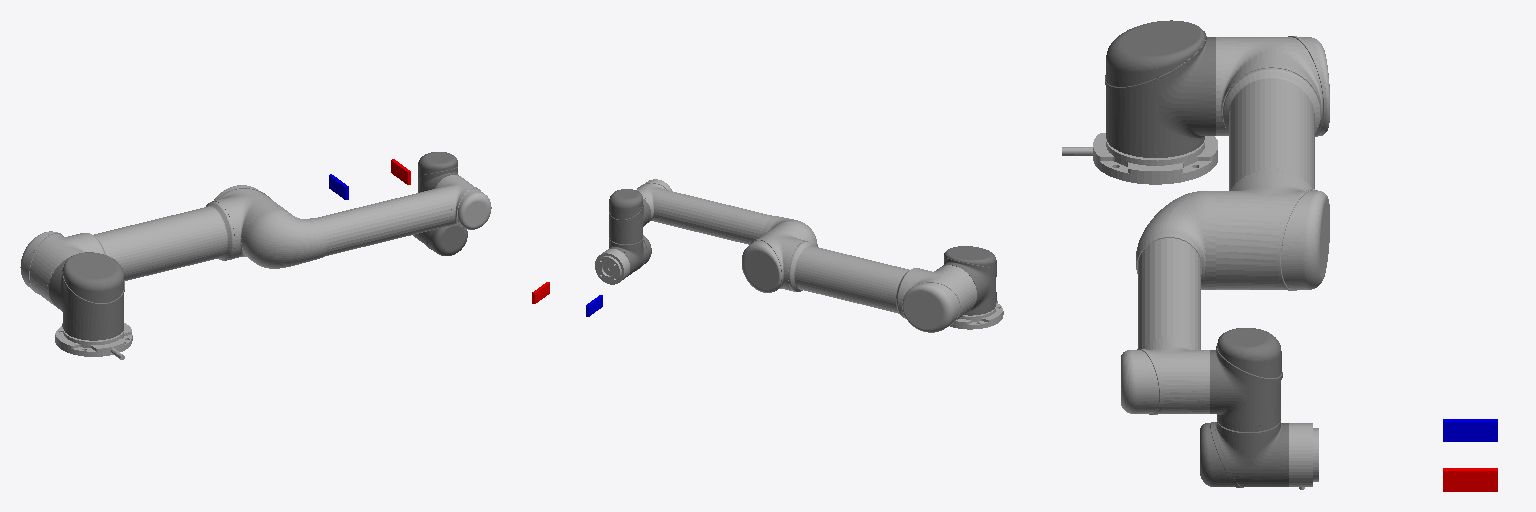
The robot description file, URDF, robot "ur5_robotiq_140":
<?xml version="1.0" ?>
<!-- =================================================================================== -->
<!-- |    This document was autogenerated by xacro from sisbot.xacro                   | -->
<!-- |    EDITING THIS FILE BY HAND IS NOT RECOMMENDED                                 | -->
<!-- =================================================================================== -->
<robot name="ur5_robotiq_140" xmlns:xacro="http://ros.org/wiki/xacro">
  <!--################################################
  ########              arm                    #######
  ####################################################-->

  <link name="base_link">
    <visual>
      <geometry>
        <mesh filename="../meshes/ur5/visual/base.obj"/>
      </geometry>
      <material name="LightGrey">
        <color rgba="0.7 0.7 0.7 1.0"/>
      </material>
    </visual>
    <collision>
      <geometry>
        <mesh filename="../meshes/ur5/collision/base.stl"/>
      </geometry>
    </collision>
    <inertial>
      <mass value="4.0"/>
      <origin rpy="0 0 0" xyz="0.0 0.0 0.0"/>
      <inertia ixx="0.00443333156" ixy="0.0" ixz="0.0" iyy="0.00443333156" iyz="0.0" izz="0.0072"/>
    </inertial>
  </link>

  <joint name="shoulder_pan_joint" type="revolute">
    <parent link="base_link"/>
    <child link="shoulder_link"/>
    <origin rpy="0.0 0.0 0.0" xyz="0.0 0.0 0.089159"/>
    <axis xyz="0 0 1"/>
    <limit effort="150.0" lower="-3.14159265359" upper="3.14159265359" velocity="3.15"/>
    <dynamics damping="0.0" friction="0.0"/>
  </joint>
  <link name="shoulder_link">
    <visual>
      <geometry>
        <mesh filename="../meshes/ur5/visual/shoulder.obj"/>
      </geometry>
      <material name="DarkGray">
        <color rgba="0.5 0.5 0.5 1.0"/>
      </material>
    </visual>
    <collision>
      <geometry>
        <mesh filename="../meshes/ur5/collision/shoulder.stl"/>
      </geometry>
    </collision>
    <inertial>
      <mass value="3.7"/>
      <origin rpy="0 0 0" xyz="0.0 0.0 0.0"/>
      <inertia ixx="0.010267495893" ixy="0.0" ixz="0.0" iyy="0.010267495893" iyz="0.0" izz="0.00666"/>
    </inertial>
  </link>
  <joint name="shoulder_lift_joint" type="revolute">
    <parent link="shoulder_link"/>
    <child link="upper_arm_link"/>
    <origin rpy="0.0 1.57079632679 0.0" xyz="0.0 0.13585 0.0"/>
    <axis xyz="0 1 0"/>
    <limit effort="150.0" lower="-3.14159265359" upper="3.14159265359" velocity="3.15"/>
    <dynamics damping="0.0" friction="0.0"/>
  </joint>
  <link name="upper_arm_link">
    <visual>
      <geometry>
        <mesh filename="../meshes/ur5/visual/upperarm.obj"/>
      </geometry>
      <material name="LightGrey">
        <color rgba="0.7 0.7 0.7 1.0"/>
      </material>
    </visual>
    <collision>
      <geometry>
        <mesh filename="../meshes/ur5/collision/upperarm.stl"/>
      </geometry>
    </collision>
    <inertial>
      <mass value="8.393"/>
      <origin rpy="0 0 0" xyz="0.0 0.0 0.28"/>
      <inertia ixx="0.22689067591" ixy="0.0" ixz="0.0" iyy="0.22689067591" iyz="0.0" izz="0.0151074"/>
    </inertial>
  </link>
  <joint name="elbow_joint" type="revolute">
    <parent link="upper_arm_link"/>
    <child link="forearm_link"/>
    <origin rpy="0.0 0.0 0.0" xyz="0.0 -0.1197 0.425"/>
    <axis xyz="0 1 0"/>
    <limit effort="150.0" lower="-3.14159265359" upper="3.14159265359" velocity="3.15"/>
    <dynamics damping="0.0" friction="0.0"/>
  </joint>
  <link name="forearm_link">
    <visual>
      <geometry>
        <mesh filename="../meshes/ur5/visual/forearm.obj"/>
      </geometry>
      <material name="LightGrey">
        <color rgba="0.7 0.7 0.7 1.0"/>
      </material>
    </visual>
    <collision>
      <geometry>
        <mesh filename="../meshes/ur5/collision/forearm.stl"/>
      </geometry>
    </collision>
    <inertial>
      <mass value="2.275"/>
      <origin rpy="0 0 0" xyz="0.0 0.0 0.25"/>
      <inertia ixx="0.049443313556" ixy="0.0" ixz="0.0" iyy="0.049443313556" iyz="0.0" izz="0.004095"/>
    </inertial>
  </link>
  <joint name="wrist_1_joint" type="revolute">
    <parent link="forearm_link"/>
    <child link="wrist_1_link"/>
    <origin rpy="0.0 1.57079632679 0.0" xyz="0.0 0.0 0.39225"/>
    <axis xyz="0 1 0"/>
    <limit effort="28.0" lower="-3.14159265359" upper="3.14159265359" velocity="3.2"/>
    <dynamics damping="0.0" friction="0.0"/>
  </joint>
  <link name="wrist_1_link">
    <visual>
      <geometry>
        <mesh filename="../meshes/ur5/visual/wrist1.obj"/>
      </geometry>
      <material name="DarkGray">
        <color rgba="0.5 0.5 0.5 1.0"/>
      </material>
    </visual>
    <collision>
      <geometry>
        <mesh filename="../meshes/ur5/collision/wrist1.stl"/>
      </geometry>
    </collision>
    <inertial>
      <mass value="1.219"/>
      <origin rpy="0 0 0" xyz="0.0 0.0 0.0"/>
      <inertia ixx="0.111172755531" ixy="0.0" ixz="0.0" iyy="0.111172755531" iyz="0.0" izz="0.21942"/>
    </inertial>
  </link>
  <joint name="wrist_2_joint" type="revolute">
    <parent link="wrist_1_link"/>
    <child link="wrist_2_link"/>
    <origin rpy="0.0 0.0 0.0" xyz="0.0 0.093 0.0"/>
    <axis xyz="0 0 1"/>
    <limit effort="28.0" lower="-3.14159265359" upper="3.14159265359" velocity="3.2"/>
    <dynamics damping="0.0" friction="0.0"/>
  </joint>
  <link name="wrist_2_link">
    <visual>
      <geometry>
        <mesh filename="../meshes/ur5/visual/wrist2.obj"/>
      </geometry>
      <material name="DarkGray">
        <color rgba="0.5 0.5 0.5 1.0"/>
      </material>
    </visual>
    <collision>
      <geometry>
        <mesh filename="../meshes/ur5/collision/wrist2.stl"/>
      </geometry>
    </collision>
    <inertial>
      <mass value="1.219"/>
      <origin rpy="0 0 0" xyz="0.0 0.0 0.0"/>
      <inertia ixx="0.111172755531" ixy="0.0" ixz="0.0" iyy="0.111172755531" iyz="0.0" izz="0.21942"/>
    </inertial>
  </link>
  <joint name="wrist_3_joint" type="revolute">
    <parent link="wrist_2_link"/>
    <child link="wrist_3_link"/>
    <origin rpy="0.0 0.0 0.0" xyz="0.0 0.0 0.09465"/>
    <axis xyz="0 1 0"/>
    <limit effort="28.0" lower="-3.14159265359" upper="3.14159265359" velocity="3.2"/>
    <dynamics damping="0.0" friction="0.0"/>
  </joint>
  <link name="wrist_3_link">
    <visual>
      <geometry>
        <mesh filename="../meshes/ur5/visual/wrist3.obj"/>
      </geometry>
      <material name="LightGrey">
        <color rgba="0.7 0.7 0.7 1.0"/>
      </material>
    </visual>
    <collision>
      <geometry>
        <mesh filename="../meshes/ur5/collision/wrist3.stl"/>
      </geometry>
    </collision>
    <inertial>
      <mass value="0.1879"/>
      <origin rpy="0 0 0" xyz="0.0 0.0 0.0"/>
      <inertia ixx="0.0171364731454" ixy="0.0" ixz="0.0" iyy="0.0171364731454" iyz="0.0" izz="0.033822"/>
    </inertial>
  </link>
  <joint name="ee_fixed_joint" type="fixed">
    <parent link="wrist_3_link"/>
    <child link="ee_link"/>
    <origin rpy="0.0 0.0 1.57079632679" xyz="0.0 0.0823 0.0"/>
  </joint>
  <link name="ee_link">
    <collision>
      <geometry>
        <box size="0.01 0.01 0.01"/>
      </geometry>
      <origin rpy="0 0 0" xyz="-0.01 0 0"/>
    </collision>
  </link>

  <!--################################################
  ########              gripper                  #####
  ####################################################-->

  <link name="robotiq_arg2f_base_link">
    <inertial>
      <origin rpy="0 0 0" xyz="8.625E-08 -4.6583E-06 0.03145"/>
      <mass value="0.22652"/>
      <inertia ixx="0.00020005" ixy="-4.2442E-10" ixz="-2.9069E-10" iyy="0.00017832" iyz="-3.4402E-08" izz="0.00013478"/>
    </inertial>
    <visual>
      <origin rpy="0 0 0" xyz="0 0 0"/>
      <geometry>
        <mesh filename="../meshes/robotiq_140/visual/robotiq_arg2f_base_link.stl"/>
      </geometry>
      <material name="">
        <color rgba="0.1 0.1 0.1 1"/>
      </material>
    </visual>
    <collision>
      <origin rpy="0 0 0" xyz="0 0 0"/>
      <geometry>
        <mesh filename="../meshes/robotiq_140/collision/robotiq_arg2f_base_link.stl"/>
      </geometry>
    </collision>
  </link>
  <link name="left_outer_knuckle">
    <inertial>
      <origin rpy="0 0 0" xyz="-0.000200000000003065 0.0199435877845359 0.0292245259211331"/>
      <mass value="0.00853198276973456"/>
      <inertia ixx="2.89328108496468E-06" ixy="-1.57935047237397E-19" ixz="-1.93980378593255E-19" iyy="1.86719750325683E-06" iyz="-1.21858577871576E-06" izz="1.21905238907251E-06"/>
    </inertial>
    <visual>
      <origin rpy="0 0 0" xyz="0 0 0"/>
      <geometry>
        <mesh filename="../meshes/robotiq_140/visual/robotiq_arg2f_140_outer_knuckle.stl"/>
      </geometry>
      <material name="">
        <color rgba="0.792156862745098 0.819607843137255 0.933333333333333 0.1"/>
      </material>
    </visual>
    <collision>
      <origin rpy="0 0 0" xyz="0 0 0"/>
      <geometry>
        <mesh filename="../meshes/robotiq_140/collision/robotiq_arg2f_140_outer_knuckle.stl"/>
      </geometry>
    </collision>
  </link>
  <link name="left_outer_finger">
    <inertial>
      <origin rpy="0 0 0" xyz="0.00030115855001899 0.0373907951953854 -0.0208027427000385"/>
      <mass value="0.022614240507152"/>
      <inertia ixx="1.52518312458174E-05" ixy="9.76583423954399E-10" ixz="-5.43838577022588E-10" iyy="6.17694243867776E-06" iyz="6.78636130740228E-06" izz="1.16494917907219E-05"/>
    </inertial>
    <visual>
      <origin rpy="0 0 0" xyz="0 0 0"/>
      <geometry>
        <mesh filename="../meshes/robotiq_140/visual/robotiq_arg2f_140_outer_finger.stl"/>
      </geometry>
      <material name="">
        <color rgba="0.1 0.1 0.1 0.2"/>
      </material>
    </visual>
    <collision>
      <origin rpy="0 0 0" xyz="0 0 0"/>
      <geometry>
        <mesh filename="../meshes/robotiq_140/collision/robotiq_arg2f_140_outer_finger.stl"/>
      </geometry>
    </collision>
  </link>
  <link name="left_inner_finger">
    <inertial>
      <origin rpy="0 0 0" xyz="0.000299999999999317 0.0160078233491243 -0.0136945669206257"/>
      <mass value="0.0104003125914103"/>
      <inertia ixx="2.71909453810972E-06" ixy="1.35402465472579E-21" ixz="-7.1817349065269E-22" iyy="7.69100314106116E-07" iyz="6.74715432769696E-07" izz="2.30315190420171E-06"/>
    </inertial>
    <visual>
      <origin rpy="0 0 0" xyz="0 0 0"/>
      <geometry>
        <mesh filename="../meshes/robotiq_140/visual/robotiq_arg2f_140_inner_finger.stl"/>
      </geometry>
      <material name="">
        <color rgba="0.1 0.1 0.1 0.3"/>
      </material>
    </visual>
    <collision>
      <origin rpy="0 0 0" xyz="0 0 0"/>
      <geometry>
        <mesh filename="../meshes/robotiq_140/collision/robotiq_arg2f_140_inner_finger.stl"/>
      </geometry>
    </collision>
  </link>
  <link name="left_inner_finger_pad">
    <inertial>
      <mass value="1."/>
      <inertia ixx="1E-10" ixy="1E-10" ixz="1E-10" iyy="1E-10" iyz="1E-10" izz="1E-10"/>
    </inertial>

    <visual>
      <origin rpy="0 0 0" xyz="0 0 0"/>
      <geometry>
        <box size="0.027 0.065 0.0075"/>
      </geometry>
      <material name="">
        <color rgba="0 0 1 1"/>
      </material>
    </visual>
    <collision>
      <origin rpy="0 0 0" xyz="0 0 0"/>
      <geometry>
        <box size="0.03 0.07 0.0075"/>
      </geometry>
      <material name="">
        <color rgba="0.9 0.0 0.0 1"/>
      </material>
    </collision>
  </link>
  <link name="left_inner_knuckle">
    <inertial>
      <origin rpy="0 0 0" xyz="0.000123011831763771 0.0507850843201817 0.00103968640075166"/>
      <mass value="0.0271177346495152"/>
      <inertia ixx="2.61910379223783E-05" ixy="-2.43616858946494E-07" ixz="-6.37789906117123E-09" iyy="2.8270243746167E-06" iyz="-5.37200748039765E-07" izz="2.83695868220296E-05"/>
    </inertial>
    <visual>
      <origin rpy="0 0 0" xyz="0 0 0"/>
      <geometry>
        <mesh filename="../meshes/robotiq_140/visual/robotiq_arg2f_140_inner_knuckle.stl"/>
      </geometry>
      <material name="">
        <color rgba="0.1 0.1 0.1 1"/>
      </material>
    </visual>
    <collision>
      <origin rpy="0 0 0" xyz="0 0 0"/>
      <geometry>
        <mesh filename="../meshes/robotiq_140/collision/robotiq_arg2f_140_inner_knuckle.stl"/>
      </geometry>
    </collision>
  </link>
  <link name="right_outer_knuckle">
    <inertial>
      <origin rpy="0 0 0" xyz="-0.000200000000003065 0.0199435877845359 0.0292245259211331"/>
      <mass value="0.00853198276973456"/>
      <inertia ixx="2.89328108496468E-06" ixy="-1.57935047237397E-19" ixz="-1.93980378593255E-19" iyy="1.86719750325683E-06" iyz="-1.21858577871576E-06" izz="1.21905238907251E-06"/>
    </inertial>
    <visual>
      <origin rpy="0 0 0" xyz="0 0 0"/>
      <geometry>
        <mesh filename="../meshes/robotiq_140/visual/robotiq_arg2f_140_outer_knuckle.stl"/>
      </geometry>
      <material name="">
        <color rgba="0.792156862745098 0.819607843137255 0.933333333333333 1"/>
      </material>
    </visual>
    <collision>
      <origin rpy="0 0 0" xyz="0 0 0"/>
      <geometry>
        <mesh filename="../meshes/robotiq_140/collision/robotiq_arg2f_140_outer_knuckle.stl"/>
      </geometry>
    </collision>
  </link>
  <link name="right_outer_finger">
    <inertial>
      <origin rpy="0 0 0" xyz="0.00030115855001899 0.0373907951953854 -0.0208027427000385"/>
      <mass value="0.022614240507152"/>
      <inertia ixx="1.52518312458174E-05" ixy="9.76583423954399E-10" ixz="-5.43838577022588E-10" iyy="6.17694243867776E-06" iyz="6.78636130740228E-06" izz="1.16494917907219E-05"/>
    </inertial>
    <visual>
      <origin rpy="0 0 0" xyz="0 0 0"/>
      <geometry>
        <mesh filename="../meshes/robotiq_140/visual/robotiq_arg2f_140_outer_finger.stl"/>
      </geometry>
      <material name="">
        <color rgba="0.1 0.1 0.1 1"/>
      </material>
    </visual>
    <collision>
      <origin rpy="0 0 0" xyz="0 0 0"/>
      <geometry>
        <mesh filename="../meshes/robotiq_140/collision/robotiq_arg2f_140_outer_finger.stl"/>
      </geometry>
    </collision>
  </link>
  <link name="right_inner_finger">
    <inertial>
      <origin rpy="0 0 0" xyz="0.000299999999999317 0.0160078233491243 -0.0136945669206257"/>
      <mass value="0.0104003125914103"/>
      <inertia ixx="2.71909453810972E-06" ixy="1.35402465472579E-21" ixz="-7.1817349065269E-22" iyy="7.69100314106116E-07" iyz="6.74715432769696E-07" izz="2.30315190420171E-06"/>
    </inertial>
    <visual>
      <origin rpy="0 0 0" xyz="0 0 0"/>
      <geometry>
        <mesh filename="../meshes/robotiq_140/visual/robotiq_arg2f_140_inner_finger.stl"/>
      </geometry>
      <material name="">
        <color rgba="0.1 0.1 0.1 1"/>
      </material>
    </visual>
    <collision>
      <origin rpy="0 0 0" xyz="0 0 0"/>
      <geometry>
        <mesh filename="../meshes/robotiq_140/collision/robotiq_arg2f_140_inner_finger.stl"/>
      </geometry>
    </collision>
  </link>
  <link name="right_inner_finger_pad">
    <inertial>
      <mass value="1."/>
      <inertia ixx="1E-10" ixy="1E-10" ixz="1E-10" iyy="1E-10" iyz="1E-10" izz="1E-10"/>
    </inertial>

    <visual>
      <origin rpy="0 0 0" xyz="0 0 0"/>
      <geometry>
        <box size="0.027 0.065 0.0075"/>
      </geometry>
      <material name="">
        <color rgba="1 0 0 1"/>
      </material>
    </visual>
    <collision>
      <origin rpy="0 0 0" xyz="0 0 0"/>
      <geometry>
        <box size="0.03 0.07 0.0075"/>
      </geometry>
      <material name="">
        <color rgba="0.9 0.0 0.0 1"/>
      </material>
    </collision>
  </link>
  <link name="right_inner_knuckle">
    <inertial>
      <origin rpy="0 0 0" xyz="0.000123011831763771 0.0507850843201817 0.00103968640075166"/>
      <mass value="0.0271177346495152"/>
      <inertia ixx="2.61910379223783E-05" ixy="-2.43616858946494E-07" ixz="-6.37789906117123E-09" iyy="2.8270243746167E-06" iyz="-5.37200748039765E-07" izz="2.83695868220296E-05"/>
    </inertial>
    <visual>
      <origin rpy="0 0 0" xyz="0 0 0"/>
      <geometry>
        <mesh filename="../meshes/robotiq_140/visual/robotiq_arg2f_140_inner_knuckle.stl"/>
      </geometry>
      <material name="">
        <color rgba="0.1 0.1 0.1 1"/>
      </material>
    </visual>
    <collision>
      <origin rpy="0 0 0" xyz="0 0 0"/>
      <geometry>
        <mesh filename="../meshes/robotiq_140/collision/robotiq_arg2f_140_inner_knuckle.stl"/>
      </geometry>
    </collision>
  </link>
  <joint name="finger_joint" type="revolute">
    <origin rpy="2.2957963267948966 0 0" xyz="0 -0.030601 0.054905"/>
    <parent link="robotiq_arg2f_base_link"/>
    <child link="left_outer_knuckle"/>
    <axis xyz="-1 0 0"/>
    <limit effort="1000" lower="0" upper="0.7" velocity="2.0"/>
  </joint>
  <joint name="left_outer_finger_joint" type="fixed">
    <origin rpy="0 0 0" xyz="0 0.01821998610742 0.0260018192872234"/>
    <parent link="left_outer_knuckle"/>
    <child link="left_outer_finger"/>
    <axis xyz="1 0 0"/>
  </joint>
  <joint name="left_inner_knuckle_joint" type="revolute">
    <origin rpy="2.2957963267948966 0 0.0" xyz="0 -0.0127 0.06142"/>
    <parent link="robotiq_arg2f_base_link"/>
    <child link="left_inner_knuckle"/>
    <axis xyz="1 0 0"/>
    <limit effort="1000" upper="0" lower="-0.8757" velocity="2.0"/>
    <mimic joint="finger_joint" multiplier="-1" offset="0"/>
  </joint>
  <joint name="left_inner_finger_joint" type="revolute">
    <origin rpy="-0.725 0 0" xyz="0 0.0817554015893473 -0.0282203446692936"/>
    <parent link="left_outer_finger"/>
    <child link="left_inner_finger"/>
    <axis xyz="1 0 0"/>
    <limit effort="1000" lower="0" upper="0.8757" velocity="2.0"/>
    <mimic joint="finger_joint" multiplier="1" offset="0"/>
  </joint>
  <joint name="left_inner_finger_pad_joint" type="fixed">
    <origin rpy="0 0 0" xyz="0 0.0457554015893473 -0.0272203446692936"/>
    <parent link="left_inner_finger"/>
    <child link="left_inner_finger_pad"/>
    <axis xyz="0 0 1"/>
  </joint>
  <joint name="right_outer_knuckle_joint" type="revolute">
    <origin rpy="2.2957963267948966 0 3.141592653589793" xyz="0 0.030601 0.054905"/>
    <parent link="robotiq_arg2f_base_link"/>
    <child link="right_outer_knuckle"/>
    <axis xyz="1 0 0"/>
    <limit effort="1000" upper="0" lower="-0.725" velocity="2.0"/>
    <mimic joint="finger_joint" multiplier="-1" offset="0"/>
  </joint>
  <joint name="right_outer_finger_joint" type="fixed">
    <origin rpy="0 0 0" xyz="0 0.01821998610742 0.0260018192872234"/>
    <parent link="right_outer_knuckle"/>
    <child link="right_outer_finger"/>
    <axis xyz="1 0 0"/>
  </joint>
  <joint name="right_inner_knuckle_joint" type="revolute">
    <origin rpy="2.2957963267948966 0 -3.141592653589793" xyz="0 0.0127 0.06142"/>
    <parent link="robotiq_arg2f_base_link"/>
    <child link="right_inner_knuckle"/>
    <axis xyz="1 0 0"/>
    <limit effort="1000" upper="0" lower="-0.8757" velocity="2.0"/>
    <mimic joint="finger_joint" multiplier="-1" offset="0"/>
  </joint>
  <joint name="right_inner_finger_joint" type="revolute">
    <origin rpy="-0.725 0 0" xyz="0 0.0817554015893473 -0.0282203446692936"/>
    <parent link="right_outer_finger"/>
    <child link="right_inner_finger"/>
    <axis xyz="1 0 0"/>
    <limit effort="1000" lower="0" upper="0.8757" velocity="2.0"/>
    <mimic joint="finger_joint" multiplier="1" offset="0"/>
  </joint>
  <joint name="right_inner_finger_pad_joint" type="fixed">
    <origin rpy="0 0 0" xyz="0 0.0457554015893473 -0.0272203446692936"/>
    <parent link="right_inner_finger"/>
    <child link="right_inner_finger_pad"/>
    <axis xyz="0 0 1"/>
  </joint>
<!--  <transmission name="finger_joint_trans">-->
<!--    <type>transmission_interface/SimpleTransmission</type>-->
<!--    <joint name="finger_joint">-->
<!--      <hardwareInterface>PositionJointInterface</hardwareInterface>-->
<!--    </joint>-->
<!--    <actuator name="finger_joint_motor">-->
<!--      <mechanicalReduction>1</mechanicalReduction>-->
<!--    </actuator>-->
<!--  </transmission>-->

<!--################################################
  ########          connect model                #####
  ####################################################-->

  <link name="world"/>
  <!-- connect gripper to arm -->
  <joint name="arm_gripper_joint" type="fixed">
    <parent link="ee_link"/>
    <child link="robotiq_arg2f_base_link"/>
    <origin rpy="-1.57 1.57 -1.57" xyz="0.0 0.0 0.0"/>
  </joint>

  <!-- connect arm to world -->
  <joint name="world_arm_joint" type="fixed">
    <parent link="world"/>
    <child link="base_link"/>
    <origin rpy="0.0 0.0 0" xyz="0 0 0"/>
  </joint>


</robot>

--- Facts derived from the render (not from the file) ---
The picture shows the robot from 3 angles, left to right: view 1: azimuth 30°, elevation 25°; view 2: azimuth 150°, elevation 25°; view 3: azimuth 270°, elevation 25°; orthographic projection.
Robot: ur5_robotiq_140 — 20 links, 19 joints (12 revolute, 7 fixed); root link world; default pose: all joints at 0.
Links seen in each view (by area): view 1: upper_arm_link, forearm_link, shoulder_link, base_link, wrist_1_link, wrist_2_link; view 2: upper_arm_link, forearm_link, shoulder_link, wrist_1_link, wrist_3_link, wrist_2_link, base_link; view 3: upper_arm_link, forearm_link, shoulder_link, wrist_1_link, wrist_2_link, base_link, wrist_3_link, right_inner_finger_pad, left_inner_finger_pad.
Boxes of the visible links, <box> form: upper_arm_link: <box>20,185,283,305</box>; forearm_link: <box>243,175,491,268</box>; shoulder_link: <box>49,252,124,340</box>; base_link: <box>55,323,132,359</box>; wrist_1_link: <box>418,152,458,192</box>; wrist_2_link: <box>413,224,467,255</box>; upper_arm_link: <box>742,225,976,332</box>; forearm_link: <box>637,179,817,246</box>; shoulder_link: <box>942,246,996,315</box>; wrist_1_link: <box>609,189,650,244</box>; wrist_3_link: <box>595,249,629,284</box>; wrist_2_link: <box>609,235,651,276</box>; base_link: <box>950,301,1003,329</box>; upper_arm_link: <box>1216,36,1329,290</box>; forearm_link: <box>1121,191,1215,414</box>; shoulder_link: <box>1105,20,1215,157</box>; wrist_1_link: <box>1210,328,1282,431</box>; wrist_2_link: <box>1200,421,1288,487</box>; base_link: <box>1062,133,1217,184</box>; wrist_3_link: <box>1289,423,1318,489</box>; right_inner_finger_pad: <box>1443,468,1497,491</box>; left_inner_finger_pad: <box>1443,419,1497,441</box>.
Size in the robot's own frame: 0.9624 by 0.5109 by 0.2062 metres.
7 mesh visuals loaded from 12 distinct referenced files (7 OBJ); not drawn: 9 (reference not matched to a file when rendering).
